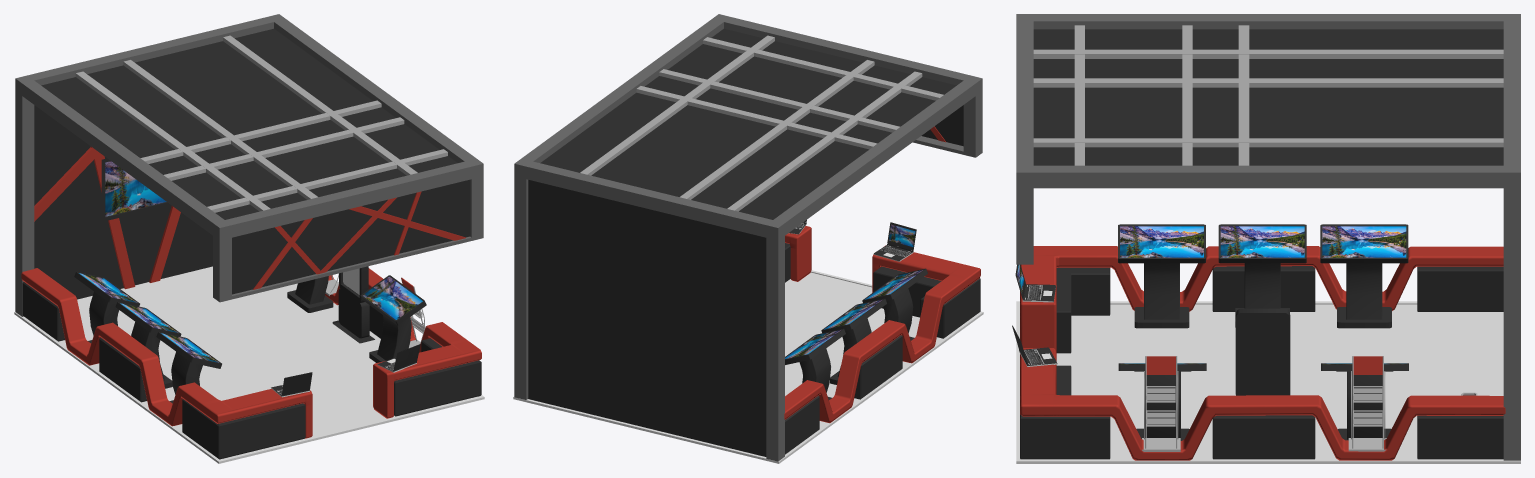
The model's file is Expo2_Booth2_Final_Reto.fbx.
3 renders of one model, left to right at view 1: azimuth 30°, elevation 25°; view 2: azimuth 150°, elevation 25°; view 3: azimuth 270°, elevation 25°, orthographic. The views are drawn at different scales.
Parts seen in each view (by area): view 1: Plane, Cube.008, Plane.024, Plane.001, Cube, Cube.012, Plane.002, Cube.001, Plane.023, Cube.010, Plane.016, Plane.014 (+11 smaller); view 2: Plane.001, Plane, Cube.008, Cube.012, Cube, Plane.024, Cube.001, Plane.022, Plane.008, Cube.013, Plane.021, Cube.015 (+2 smaller); view 3: Plane, Plane.024, Cube.008, Cube, Cube.012, Cube.015, Cube.001, Cube.013, Plane.022, Plane.008, Plane.021, Plane.014 (+6 smaller).
Boxes of the visible parts, bbox=[...] form: Plane: bbox=[41, 28, 457, 219]; Cube.008: bbox=[15, 14, 483, 316]; Plane.024: bbox=[14, 266, 484, 463]; Plane.001: bbox=[34, 105, 212, 299]; Cube: bbox=[21, 268, 481, 438]; Cube.012: bbox=[75, 35, 447, 212]; Plane.002: bbox=[232, 179, 469, 294]; Cube.001: bbox=[182, 338, 481, 459]; Plane.023: bbox=[360, 275, 426, 362]; Cube.010: bbox=[34, 146, 180, 289]; Plane.016: bbox=[101, 158, 170, 221]; Plane.014: bbox=[332, 266, 374, 343]; Plane.001: bbox=[528, 180, 766, 456]; Plane: bbox=[540, 28, 956, 219]; Cube.008: bbox=[514, 14, 982, 461]; Cube.012: bbox=[580, 35, 943, 211]; Cube: bbox=[784, 226, 980, 423]; Plane.024: bbox=[513, 270, 983, 463]; Cube.001: bbox=[785, 243, 980, 338]; Plane.022: bbox=[785, 328, 845, 399]; Plane.008: bbox=[862, 268, 927, 340]; Cube.013: bbox=[854, 335, 902, 399]; Plane.021: bbox=[821, 298, 886, 384]; Cube.015: bbox=[785, 395, 819, 454]; Plane: bbox=[1033, 29, 1503, 165]; Plane.024: bbox=[1016, 301, 1520, 463]; Cube.008: bbox=[1016, 14, 1520, 460]; Cube: bbox=[1020, 246, 1505, 460]; Cube.012: bbox=[1033, 25, 1503, 165]; Cube.015: bbox=[1417, 266, 1503, 459]; Cube.001: bbox=[1020, 267, 1110, 459]; Cube.013: bbox=[1212, 266, 1315, 459]; Plane.022: bbox=[1320, 224, 1408, 328]; Plane.008: bbox=[1118, 224, 1205, 328]; Plane.021: bbox=[1218, 224, 1306, 327]; Plane.014: bbox=[1235, 308, 1290, 395].
Bounding box in the file's own units: 600 × 509 × 807.
